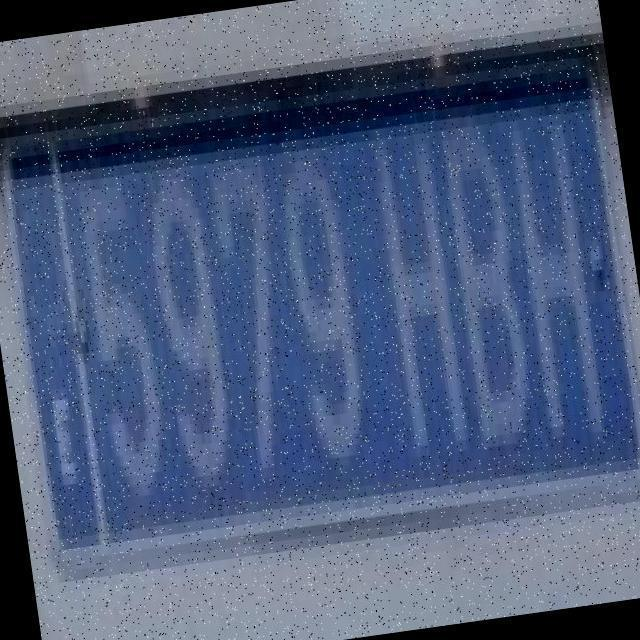license-plate: (19, 72, 613, 524)
